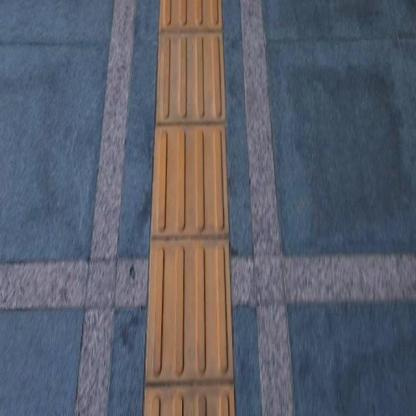podotacti: (142, 0, 238, 415)
